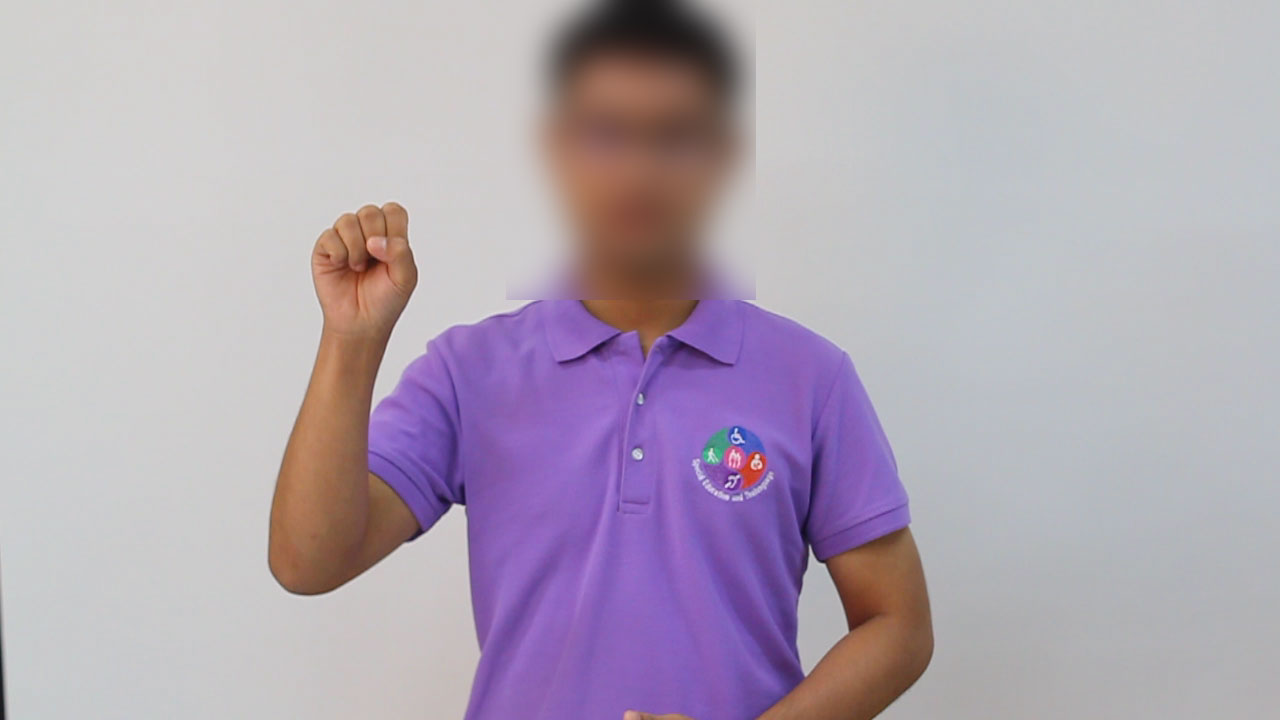sor: (297, 190, 436, 338)
